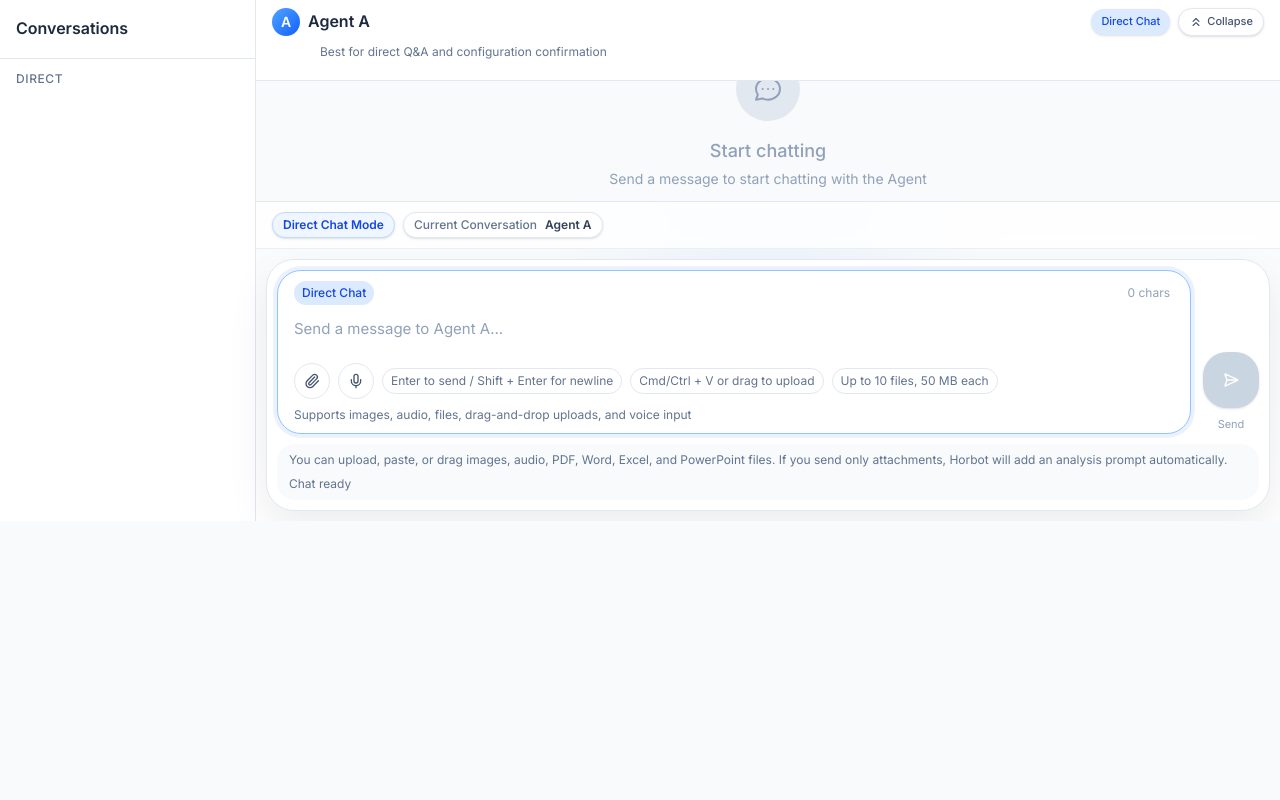
Test: ChatPage › collapses the conversation header and persists the preference
Expected: the text "Best for direct Q&A and configuration confirmation" is shown, [320,44,607,59]
Click the button with test id "chat-header-collapse-toggle".
click(1221, 22)  # box [1178,8,1264,36]
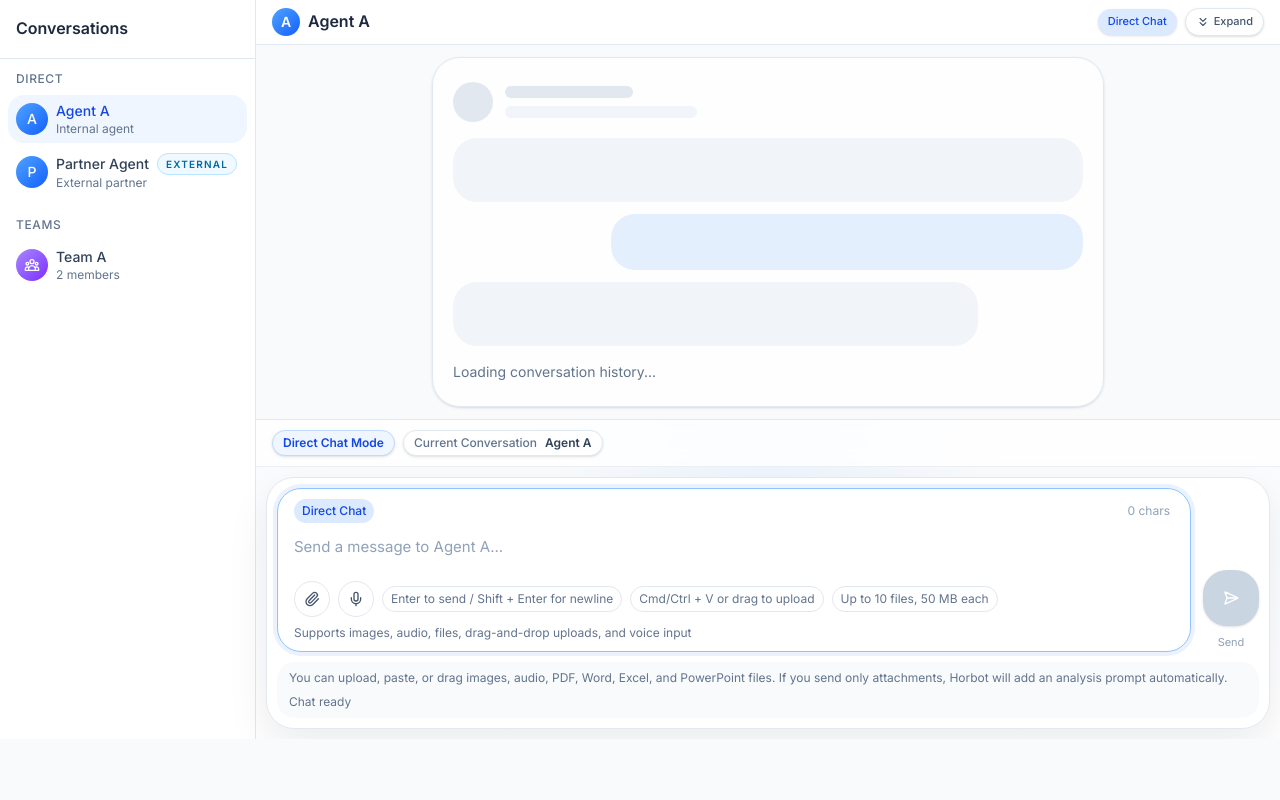
Result: the button "Expand" is shown
Click the button "Expand".
click(1224, 22)  # box [1185,8,1264,36]
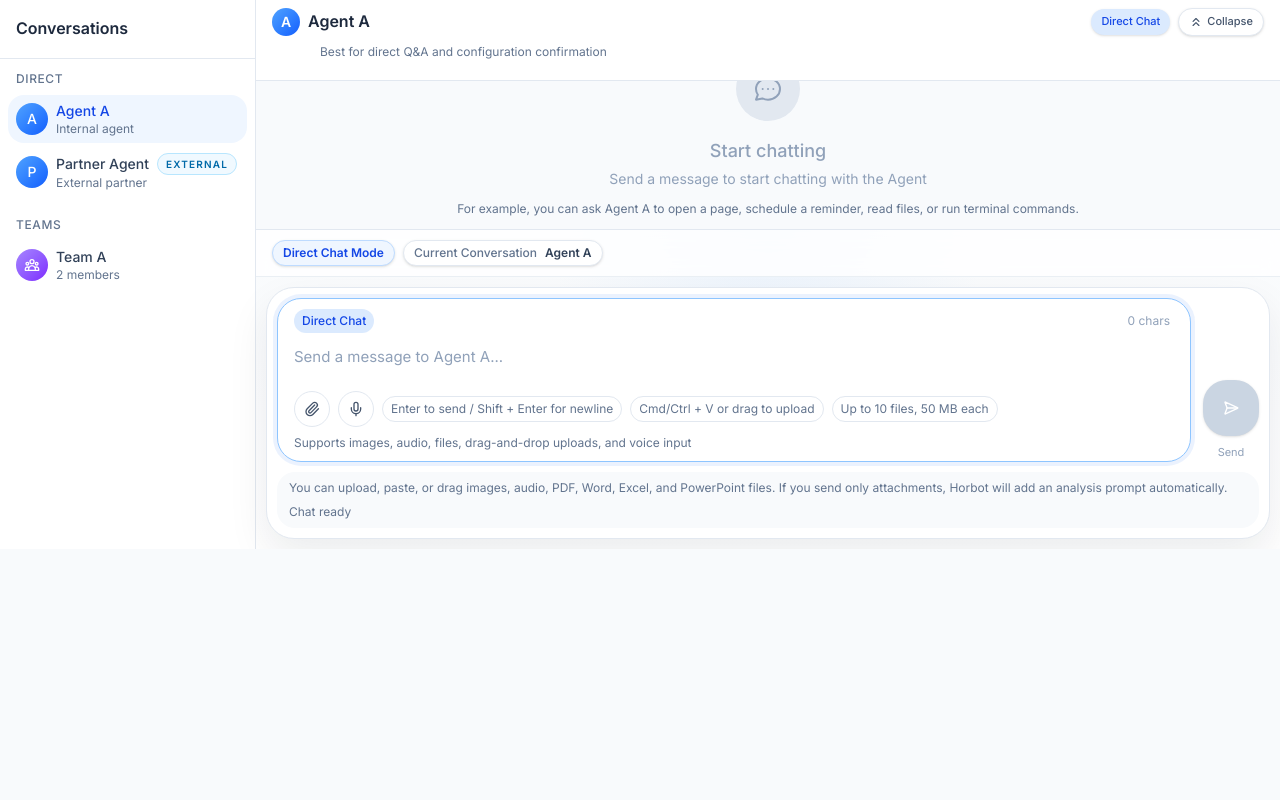
Result: the text "Best for direct Q&A and configuration confirmation" is shown at [320,44,607,59]
